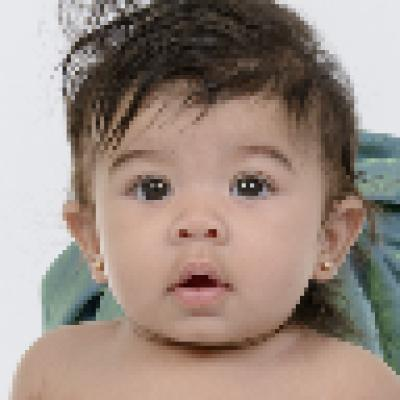surprise: (83, 54, 325, 335)
